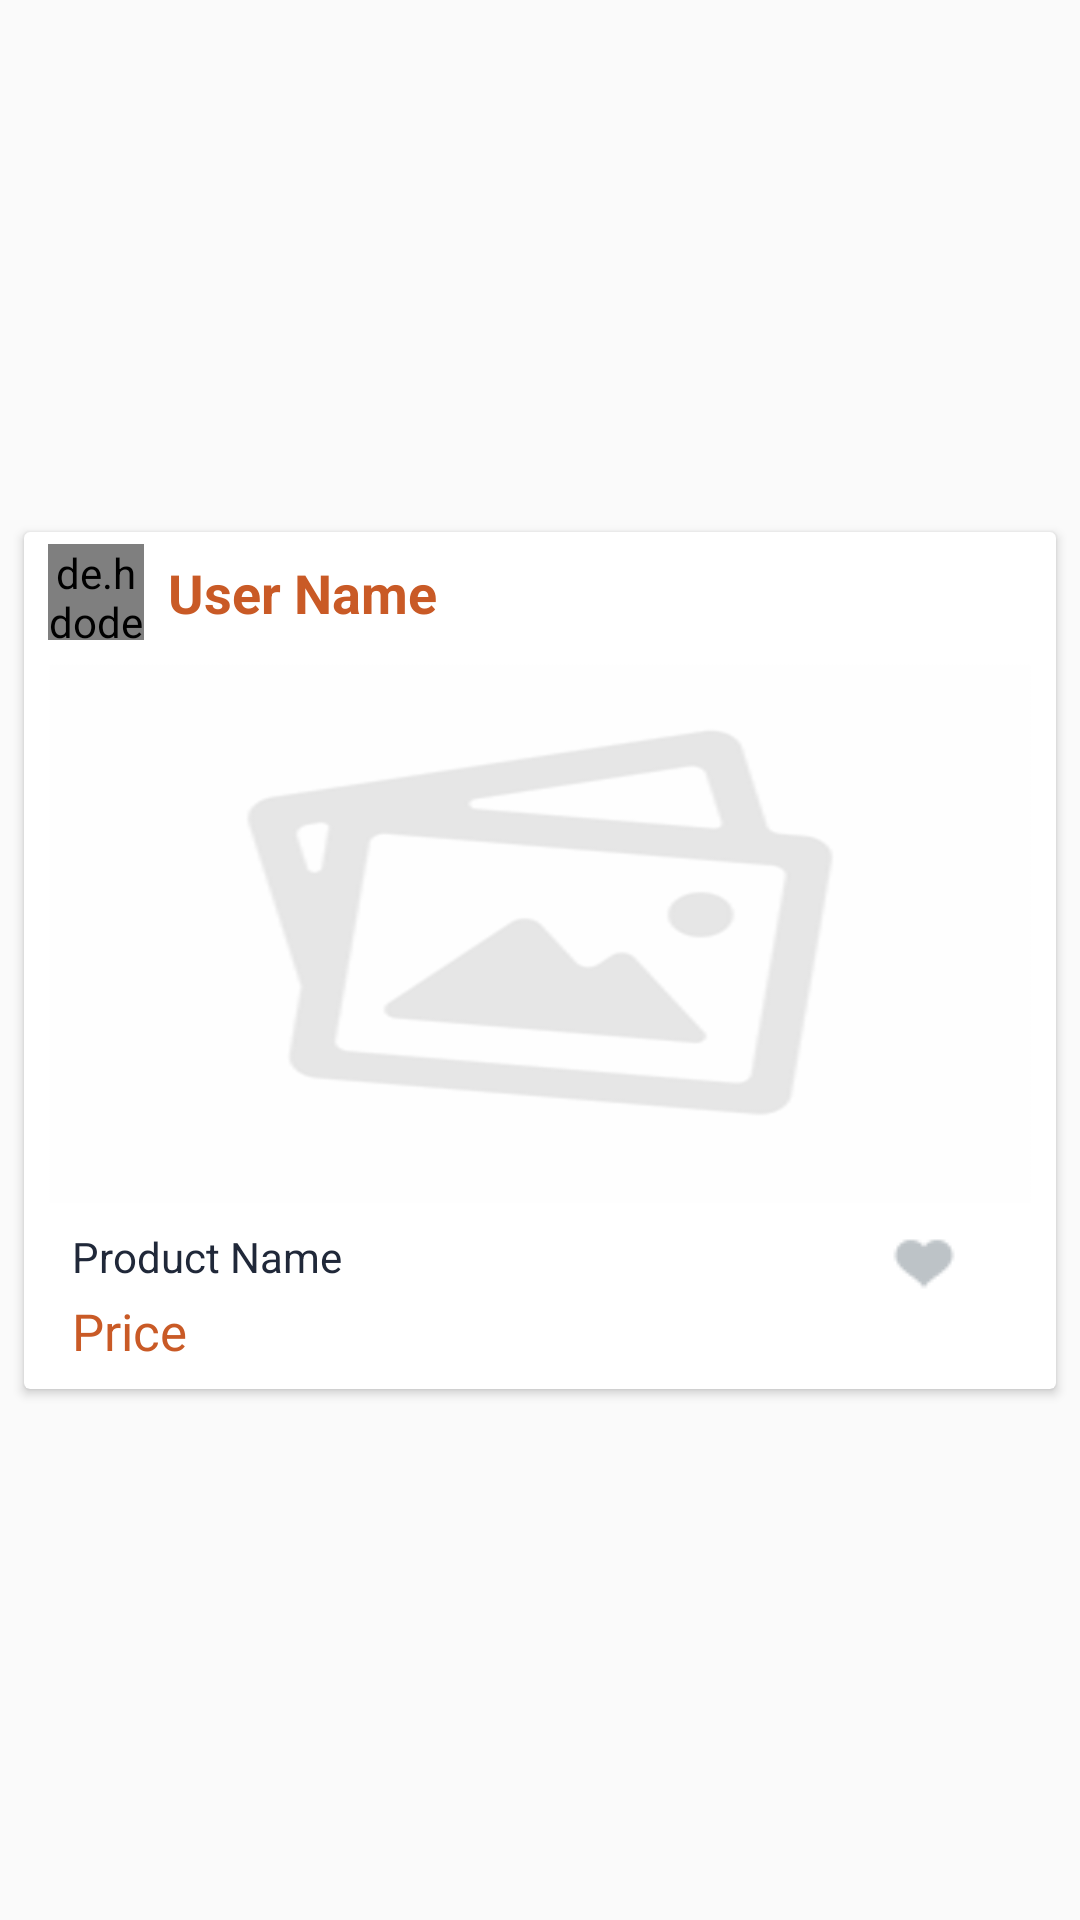

Screen size 1080*1920. Icon name, then its box in pixels as rect(x1, y1, x2, y2):
favourite: rect(895, 1240, 953, 1286)
